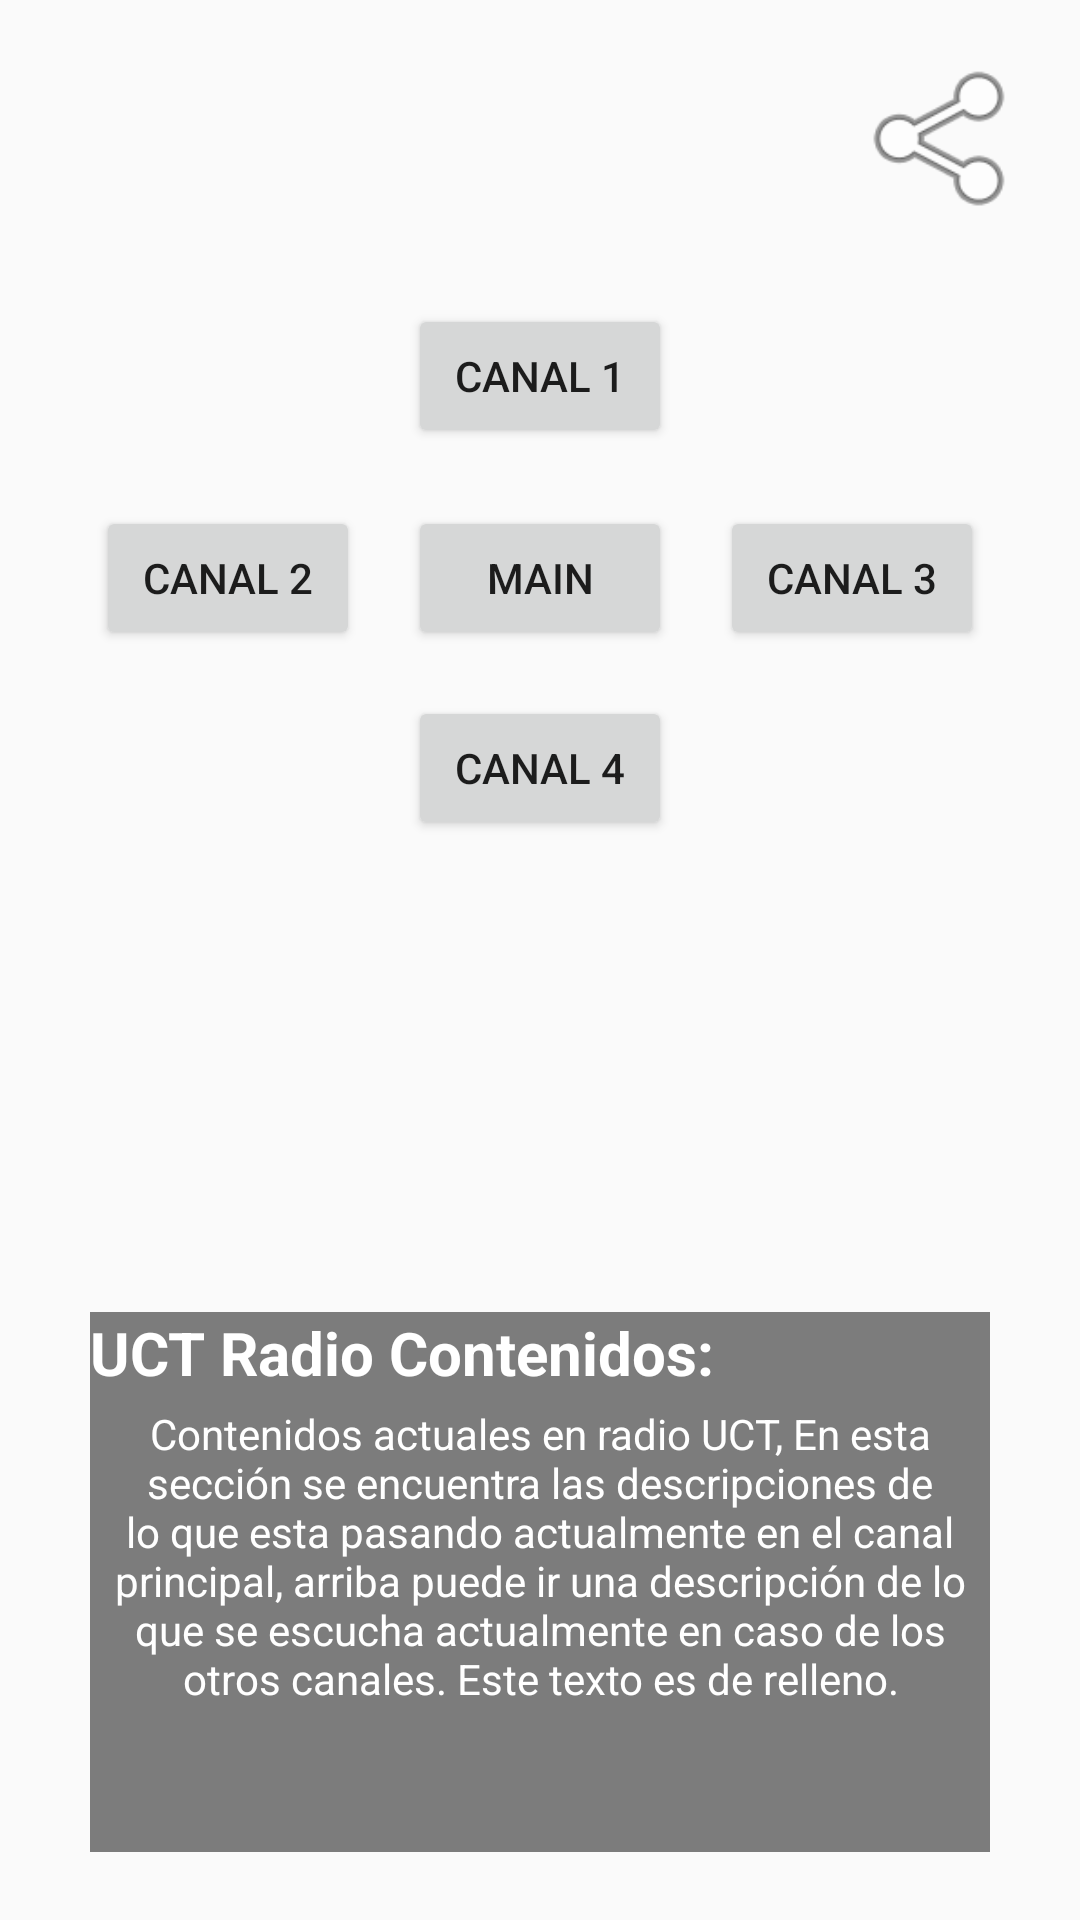

Named icons in this screenshot (1080×1920) and their centers, (x=x, y=y):
share: (x=938, y=139)
